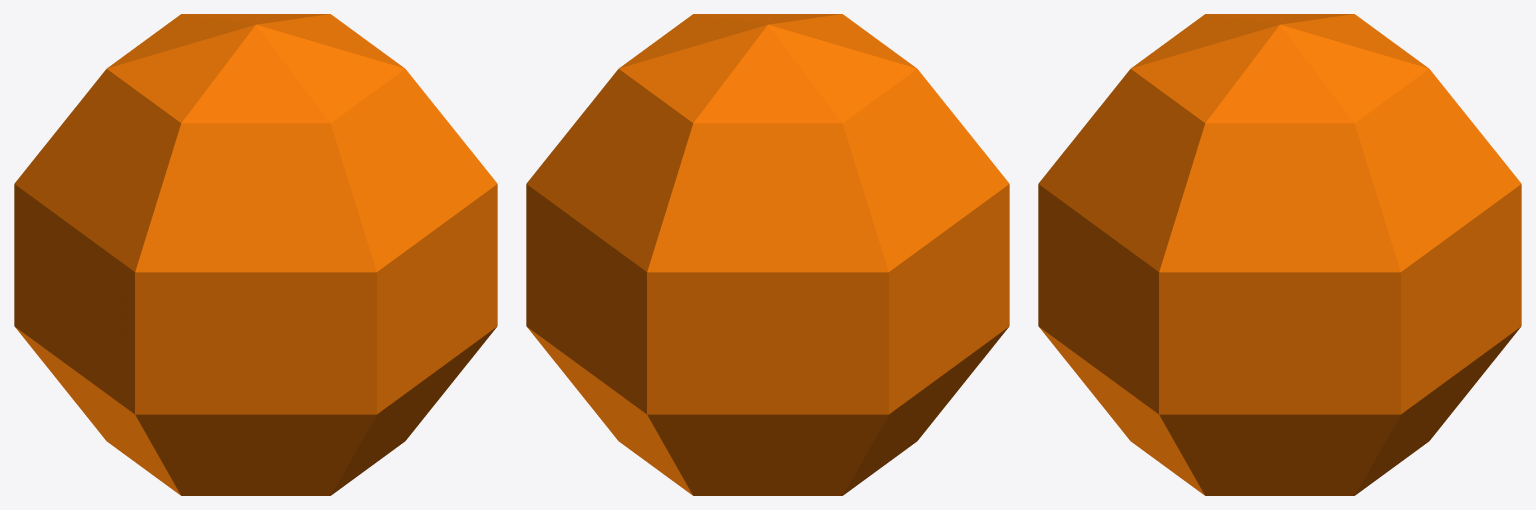
Rendered from SM_Props_PingPong_01_3.fbx.
The picture shows the model from 3 angles, left to right: view 1: azimuth 30°, elevation 25°; view 2: azimuth 150°, elevation 25°; view 3: azimuth 270°, elevation 25°; orthographic projection.
Parts seen in each view (by area): view 1: SM_Props_PingPong_01_3; view 2: SM_Props_PingPong_01_3; view 3: SM_Props_PingPong_01_3.
Boxes of the visible parts, x1,y1,x2,y2 form: SM_Props_PingPong_01_3: (14, 14, 497, 495); SM_Props_PingPong_01_3: (526, 14, 1009, 495); SM_Props_PingPong_01_3: (1038, 14, 1521, 495).
Size of the model in its own units: 0.0345 by 0.0418 by 0.0398.
